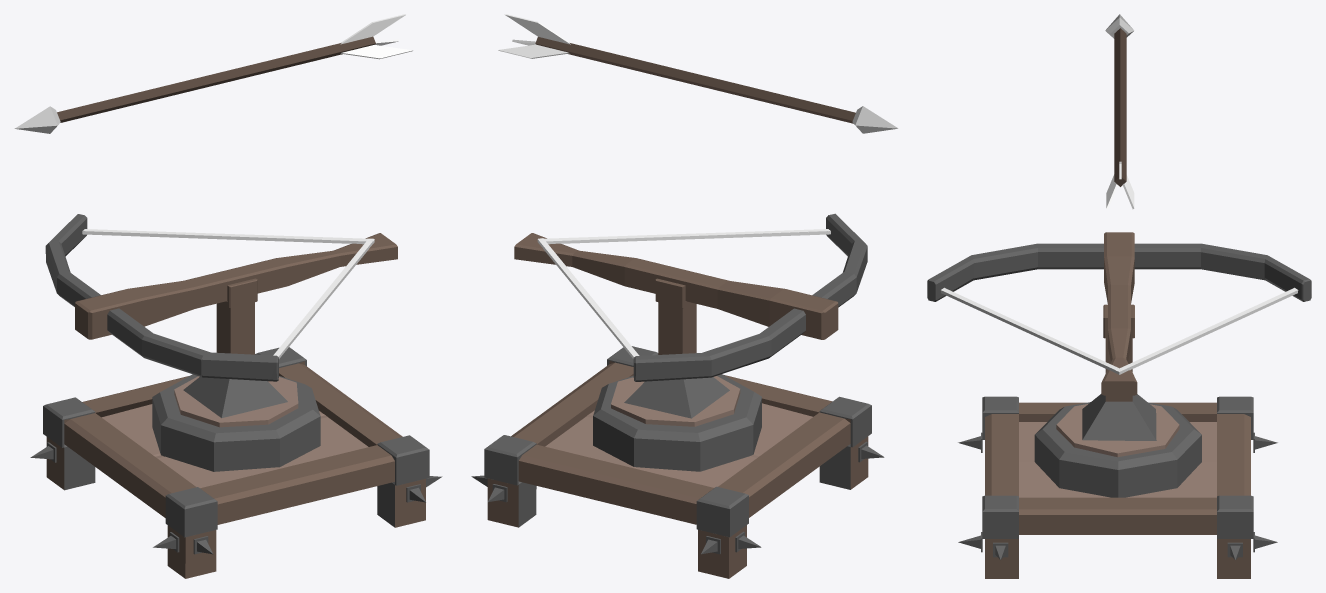
The model's file is Ballista.fbx.
3 views of the same model, side by side, from view 1: azimuth 30°, elevation 25°; view 2: azimuth 150°, elevation 25°; view 3: azimuth 270°, elevation 25° (orthographic). The views are drawn at different scales.
Parts seen in each view (by area): view 1: Cube, Cube.001, Cube.007; view 2: Cube, Cube.001, Cube.007; view 3: Cube, Cube.001, Cube.007.
Part boxes in pixels (x1,y1,x2,y2): Cube: (45, 214, 397, 471); Cube.001: (30, 347, 442, 578); Cube.007: (14, 14, 412, 133); Cube: (514, 213, 867, 471); Cube.001: (471, 346, 884, 578); Cube.007: (498, 14, 898, 133); Cube: (927, 232, 1311, 497); Cube.001: (958, 396, 1277, 578); Cube.007: (1105, 14, 1134, 209).
Bounding box in the file's own units: 462 × 498 × 410.
